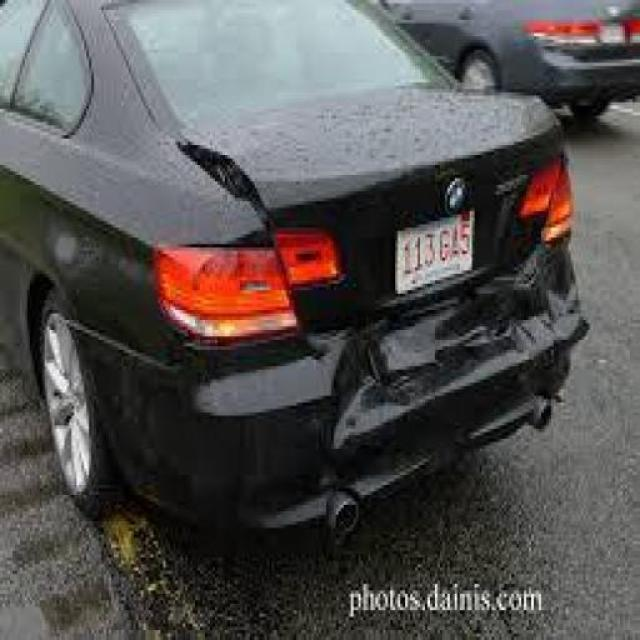dent: (304, 239, 585, 452)
misalignment: (170, 138, 274, 238)
